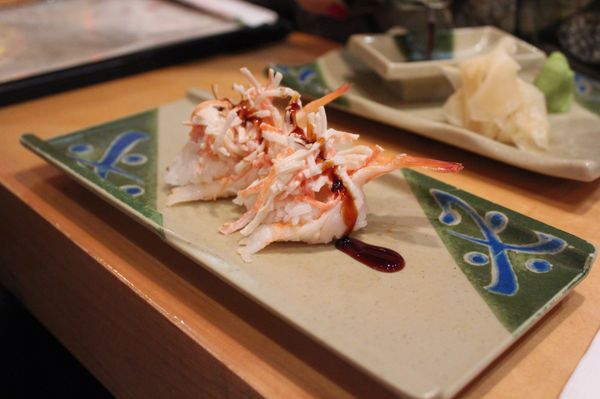curry: (0, 5, 599, 399)
taco: (430, 189, 565, 298)
